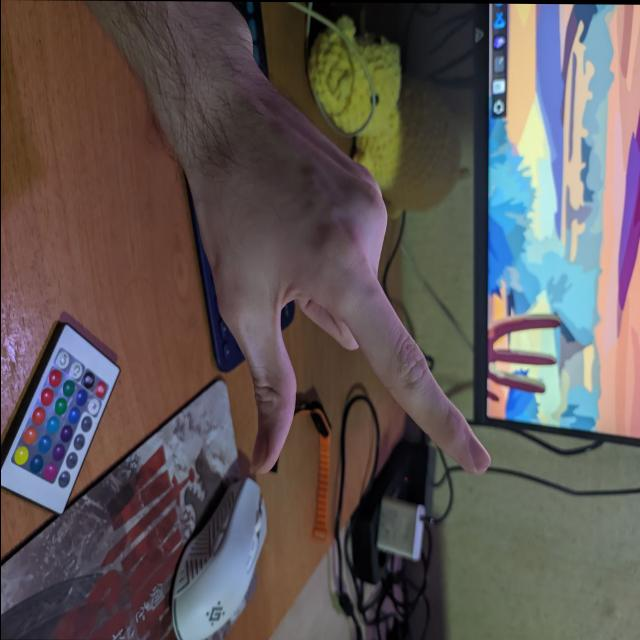-: (173, 118, 508, 513)
